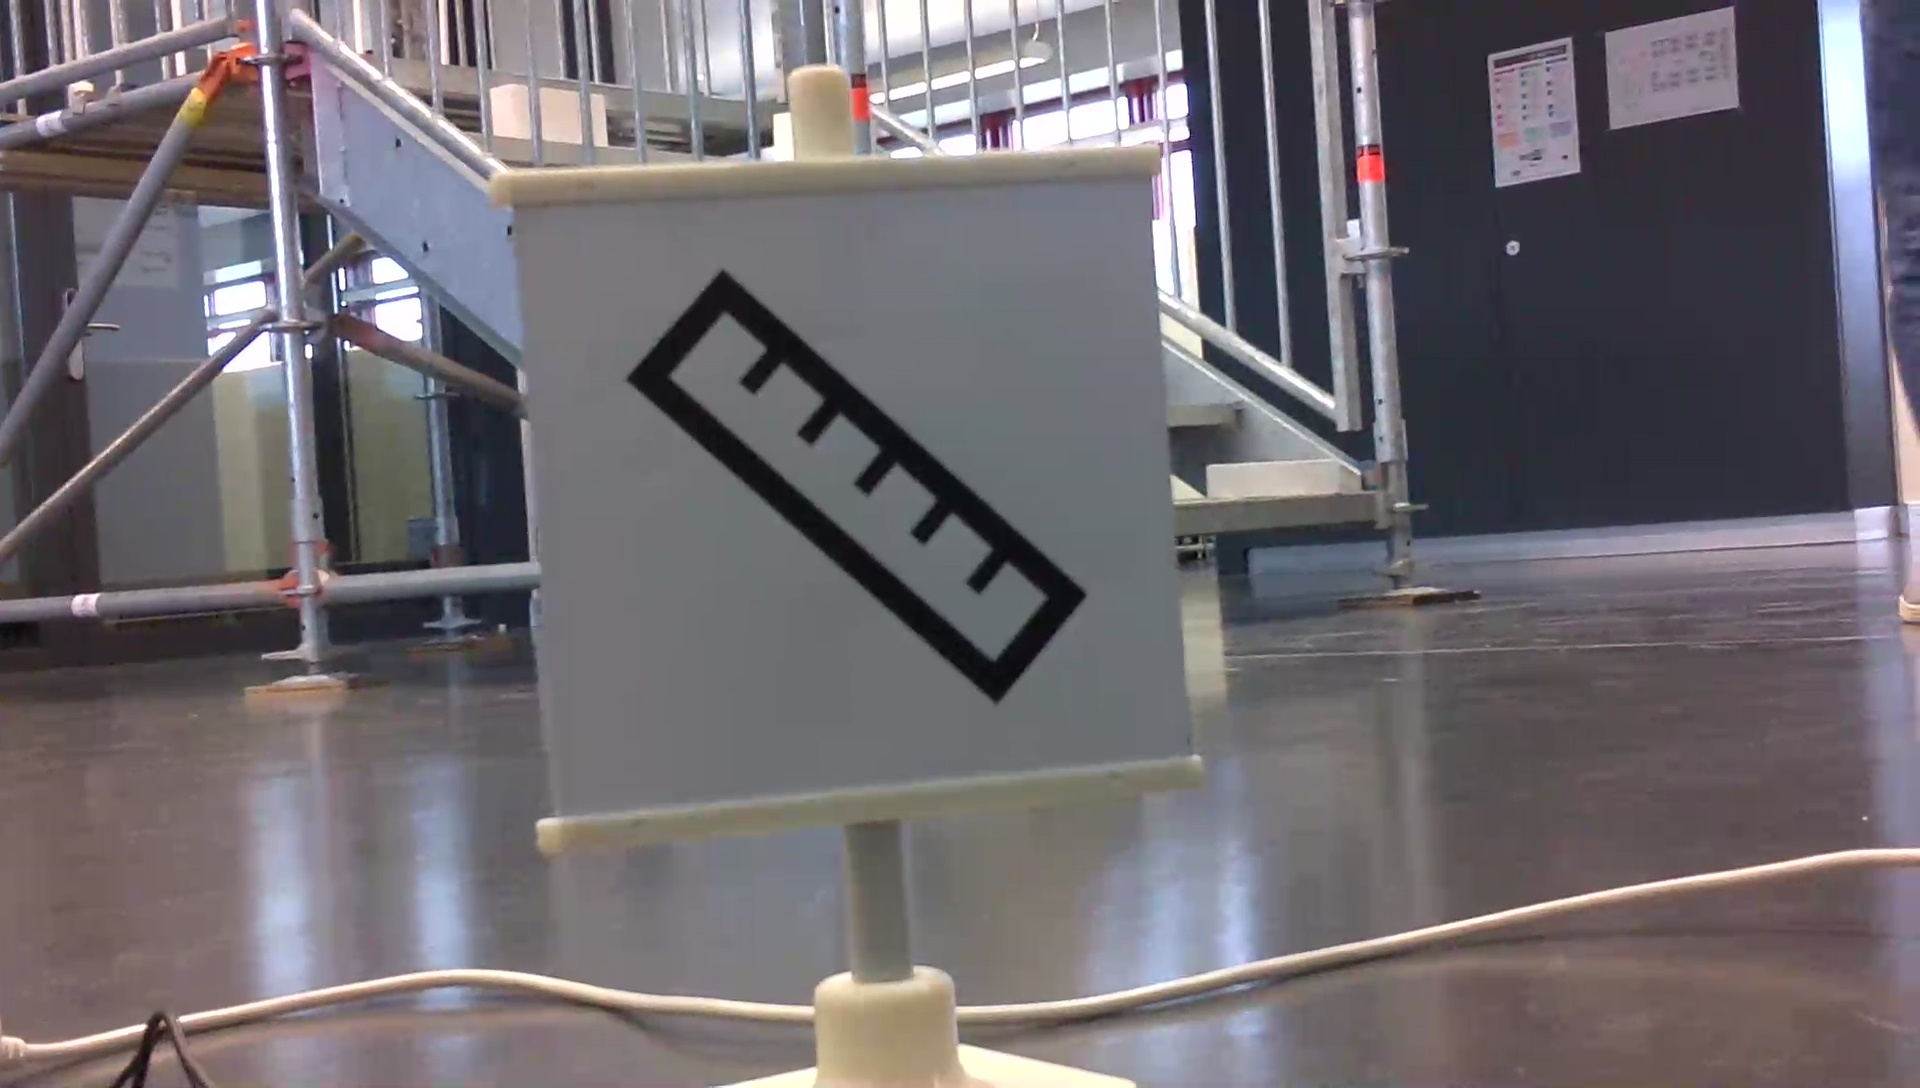ruler: (618, 251, 1092, 706)
